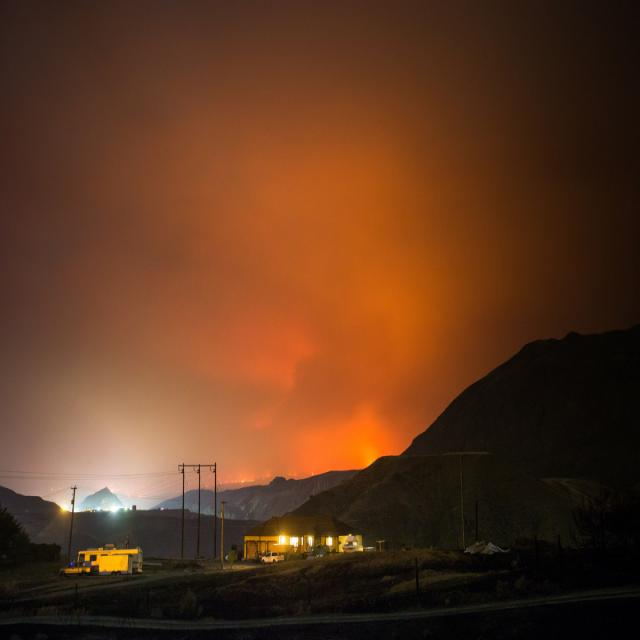Smoke: (0, 4, 628, 468)
